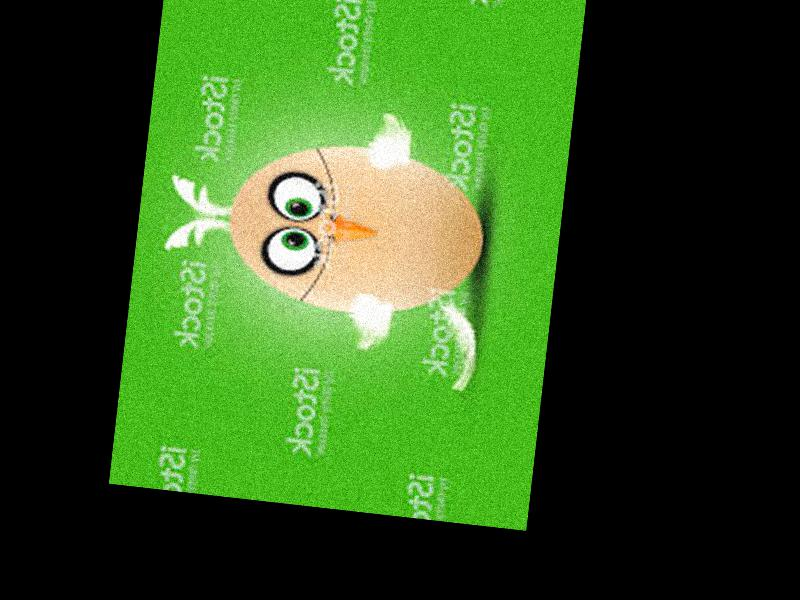Eggs: (220, 135, 494, 326)
